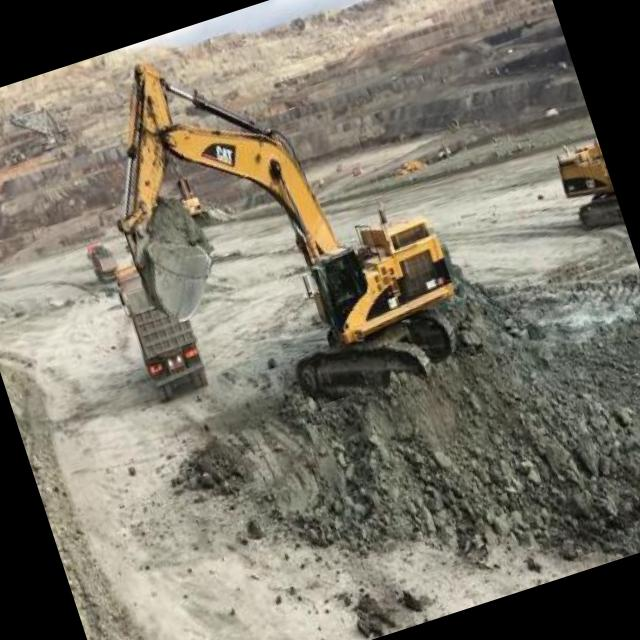Dump Truck: (111, 259, 211, 411), (85, 243, 118, 281)
Excavator: (74, 0, 479, 448), (534, 96, 626, 242), (168, 153, 208, 230)
